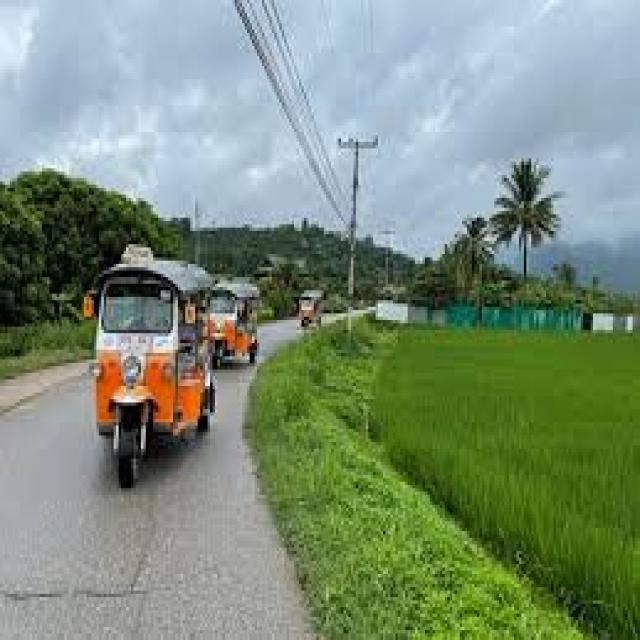tuktuk: (69, 194, 238, 496)
